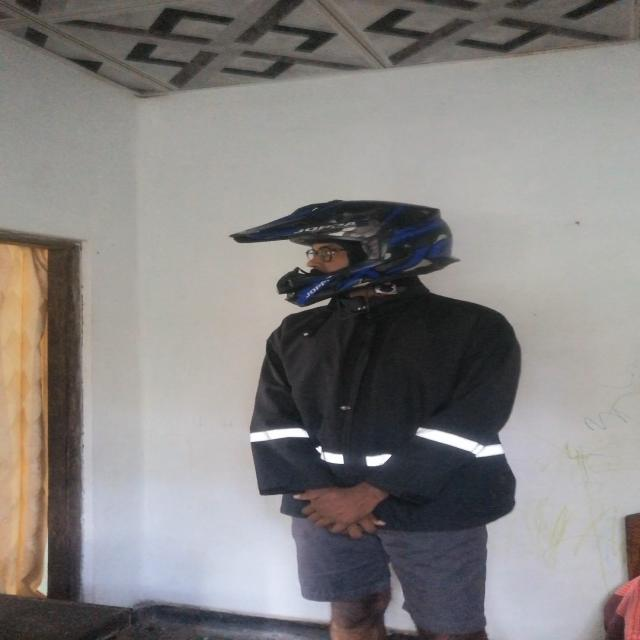Helmet_Wearer: (231, 196, 479, 312)
Jacket_Wearer: (248, 287, 551, 531)
Person: (237, 199, 517, 640)
